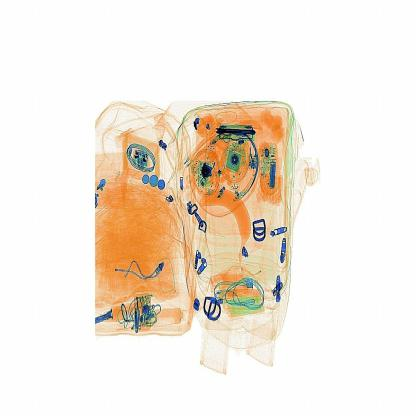knife: (210, 119, 266, 151)
